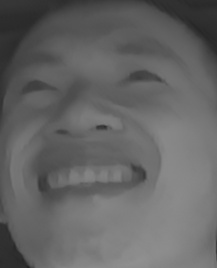eye: (119, 64, 167, 96), (16, 75, 58, 103)
mouth: (31, 154, 146, 207)
